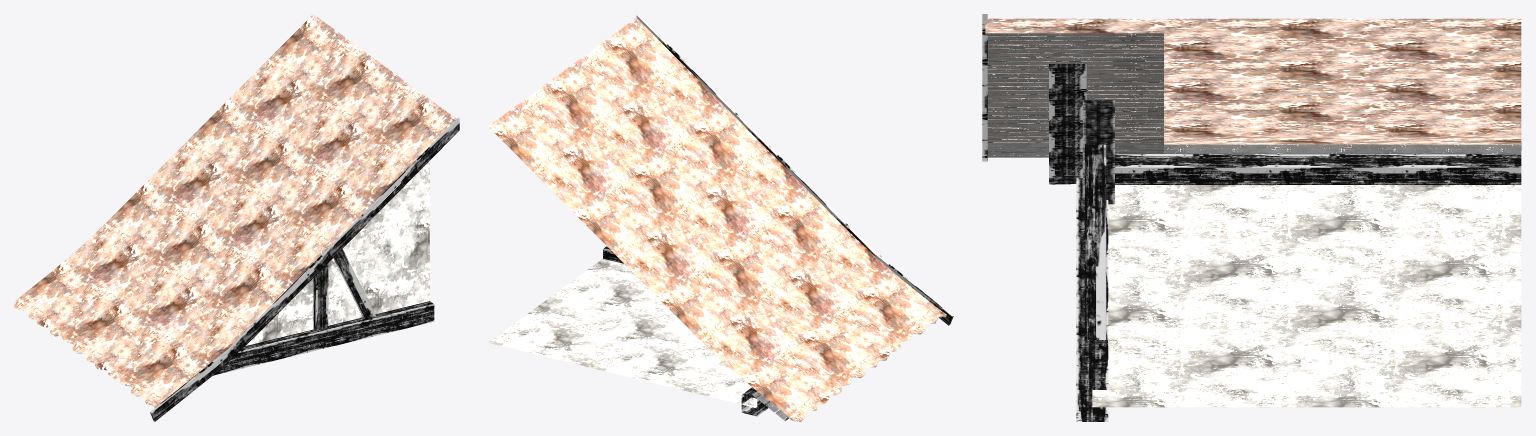
The model's file is SM_roof_A_part_01_02.fbx.
3 renders of one model, left to right at view 1: azimuth 30°, elevation 25°; view 2: azimuth 150°, elevation 25°; view 3: azimuth 270°, elevation 25°, orthographic. The views are drawn at different scales.
Visible parts, largest first — view 1: SM_roof_A_part_01_02_LOD0; view 2: SM_roof_A_part_01_02_LOD0; view 3: SM_roof_A_part_01_02_LOD0.
Part boxes in pixels (<box>): SM_roof_A_part_01_02_LOD0: <box>14,14,459,421</box>; SM_roof_A_part_01_02_LOD0: <box>488,14,953,421</box>; SM_roof_A_part_01_02_LOD0: <box>982,14,1521,421</box>.
Bounding box in the file's own units: 611 × 503 × 433.
6 materials, 6 textured.
